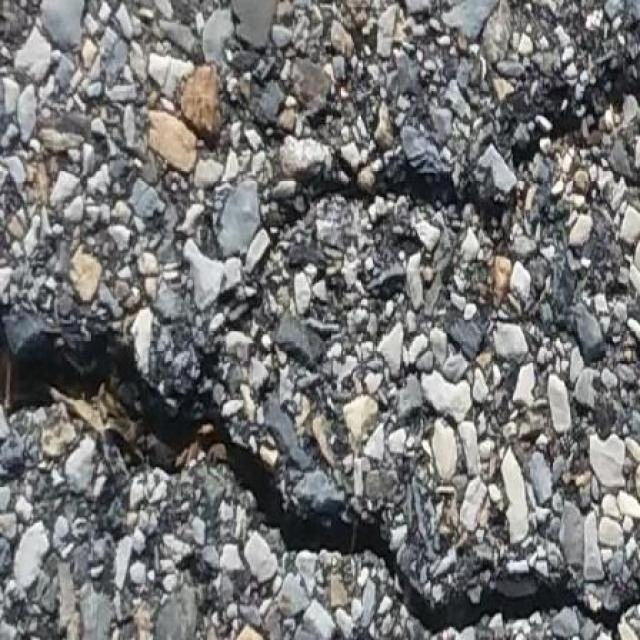Crack: (0, 312, 640, 640), (282, 70, 640, 234)
